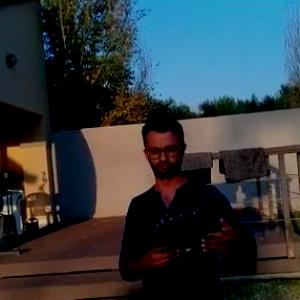follow: (110, 105, 262, 299)
